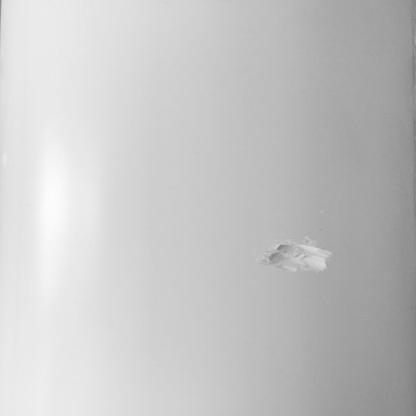sunshang: (261, 236, 340, 277)
